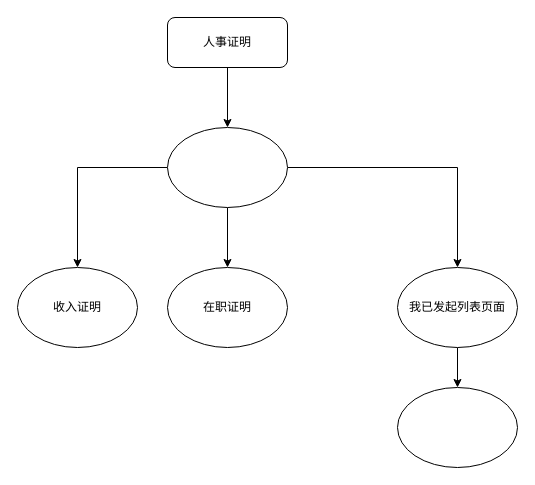
The diagram is 535 pixels wide and 485 high, and some of its shapes have lost their labels. The shapes that lost their labels are listed below. From the top down, each one's box as (x1, y1, x2, y2) in pixels, then its label:
(166, 126, 288, 208): 功能项列表页
(396, 386, 518, 468): 通过/审批中/不通过
